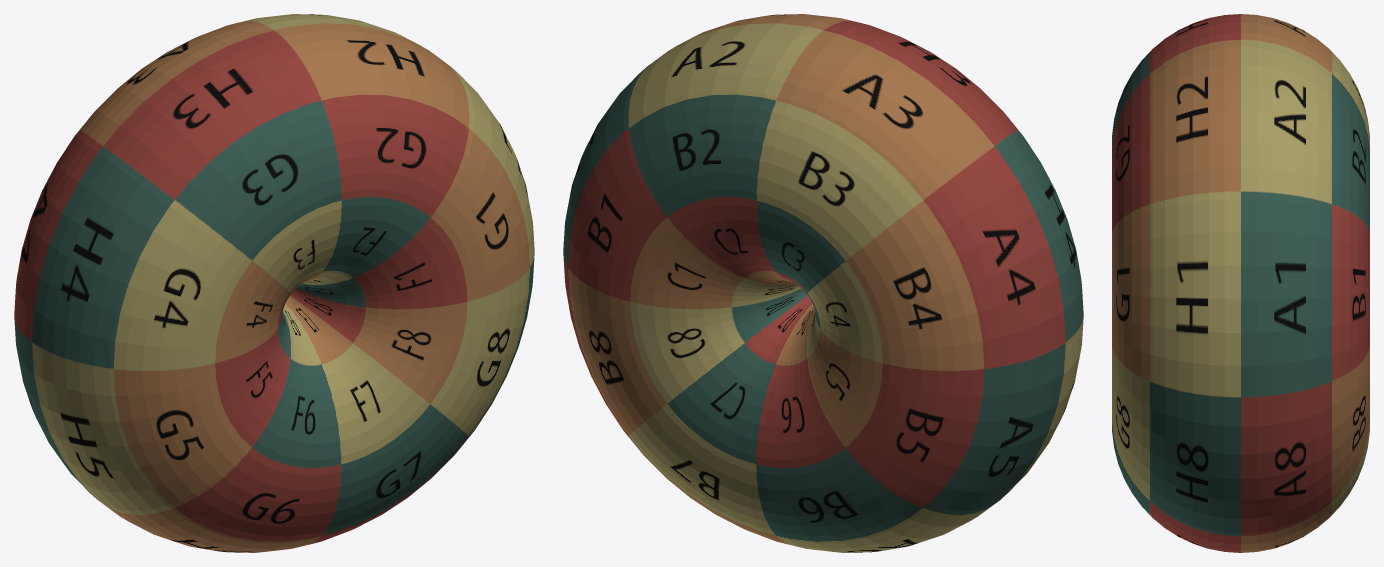
The model's file is texture_torus_R0_r27.glb.
3 views of the same model, side by side, from view 1: azimuth 30°, elevation 25°; view 2: azimuth 150°, elevation 25°; view 3: azimuth 270°, elevation 25° (orthographic). The views are drawn at different scales.
Visible parts, largest first — view 1: world; view 2: world; view 3: world.
Part boxes in pixels (x1=…): world: x1=14, y1=14, x2=534, y2=552; world: x1=563, y1=14, x2=1083, y2=552; world: x1=1112, y1=14, x2=1369, y2=552.
Size of the model in its own units: 19.2 by 19.16 by 9.18.
1 material, 1 textured.
